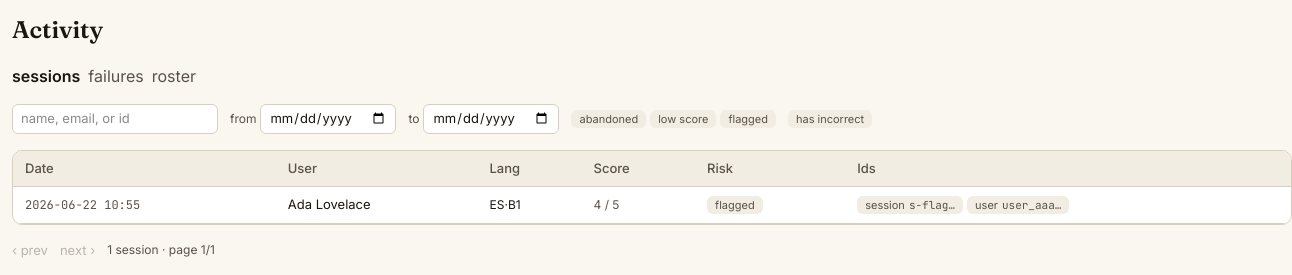
Test case: ActivityPage — Failures tab › renders a copyable exercise id chip per failure row
Click the button "failures" at (116, 76), box [88,64,144,88]
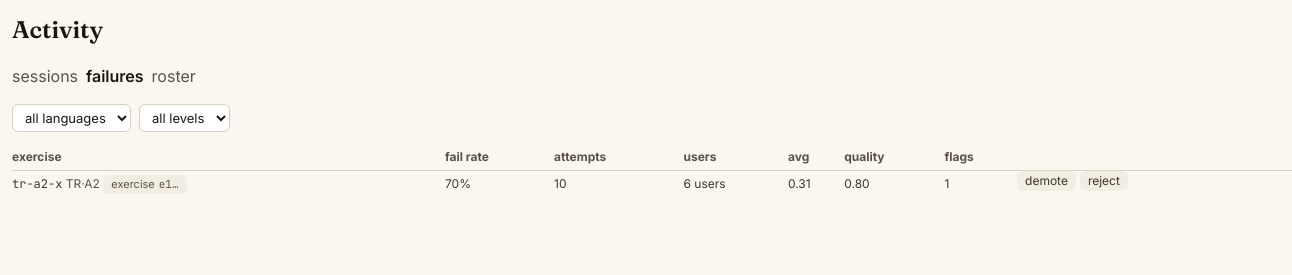
Check: the button with aria-label "copy exercise id" is shown, box [103,175,187,194]
